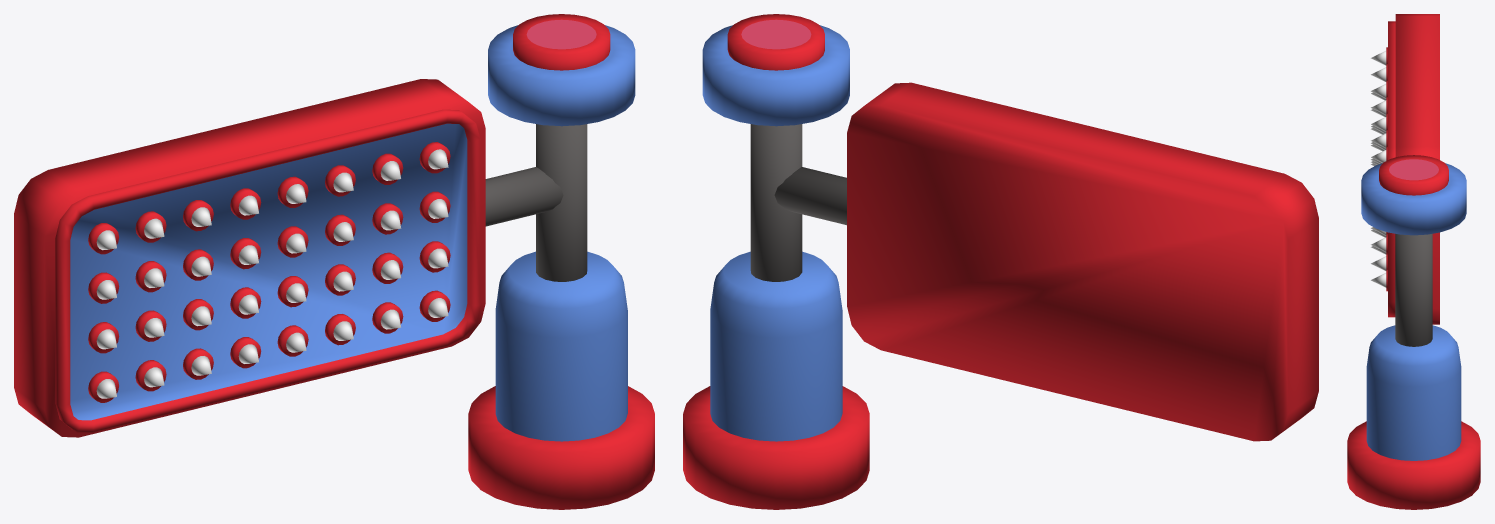
File: Obstacle 13 V1.fbx
3 views of the same model, side by side, from view 1: azimuth 30°, elevation 25°; view 2: azimuth 150°, elevation 25°; view 3: azimuth 270°, elevation 25° (orthographic). The views are drawn at different scales.
Visible parts, largest first — view 1: O13 Part 1, O13 Part 2; view 2: O13 Part 1, O13 Part 2; view 3: O13 Part 2, O13 Part 1.
Part boxes in pixels (bbox=[...]): O13 Part 1: bbox=[14, 79, 587, 437]; O13 Part 2: bbox=[468, 14, 654, 509]; O13 Part 1: bbox=[750, 82, 1318, 441]; O13 Part 2: bbox=[683, 14, 869, 509]; O13 Part 2: bbox=[1347, 155, 1480, 509]; O13 Part 1: bbox=[1371, 14, 1439, 346].
Bounding box in the file's own units: 170 × 116 × 45.05.
1 material, 1 textured.
